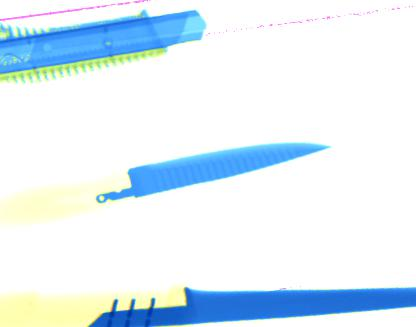Knife: (1, 141, 333, 224), (1, 283, 415, 327)
